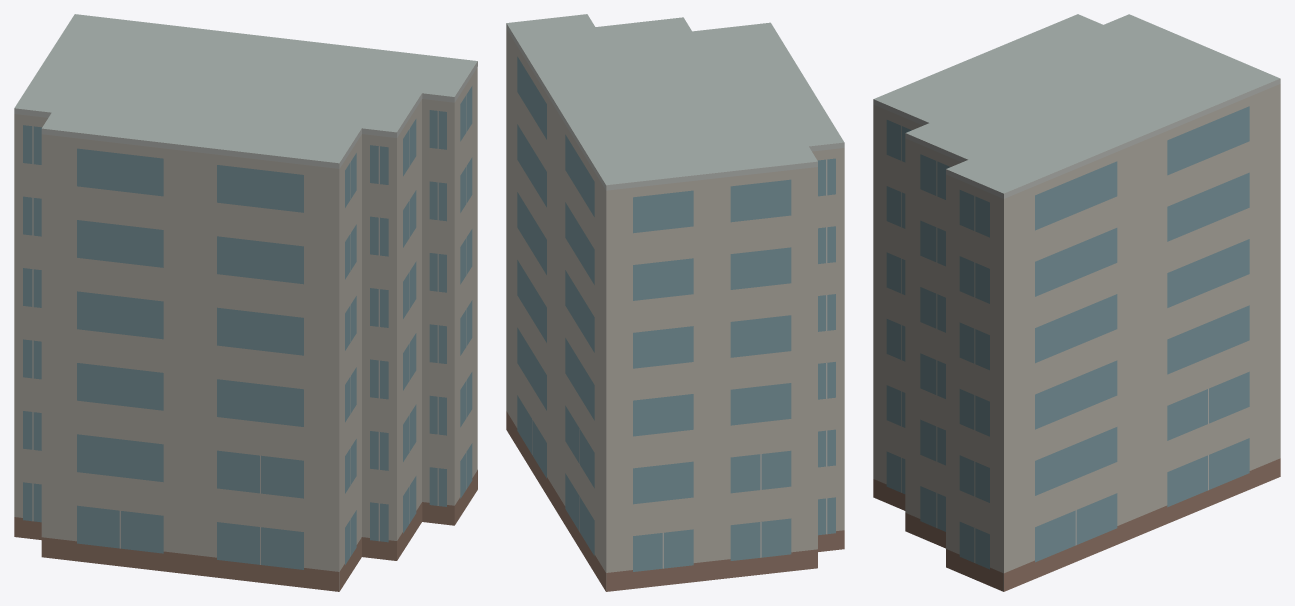
Rendered from survey-upis-32667680.glb.
The picture shows the model from 3 angles, left to right: view 1: azimuth 30°, elevation 25°; view 2: azimuth 150°, elevation 25°; view 3: azimuth 270°, elevation 25°; orthographic projection. The views are drawn at different scales.
Parts seen in each view (by area): view 1: survey-upis-32667680.tmp; view 2: survey-upis-32667680.tmp; view 3: survey-upis-32667680.tmp.
Boxes of the visible parts, box(x1,y1,x2,y2) form: survey-upis-32667680.tmp: box(14, 14, 477, 591); survey-upis-32667680.tmp: box(506, 14, 844, 591); survey-upis-32667680.tmp: box(873, 14, 1280, 591).
Bounding box in the file's own units: 17.71 × 18.3 × 16.96.
